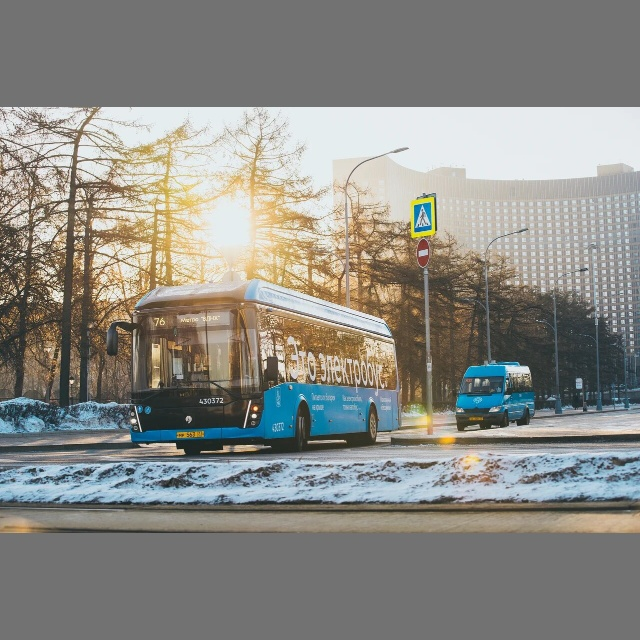Автобус: (131, 283, 398, 444), (458, 364, 535, 428)
